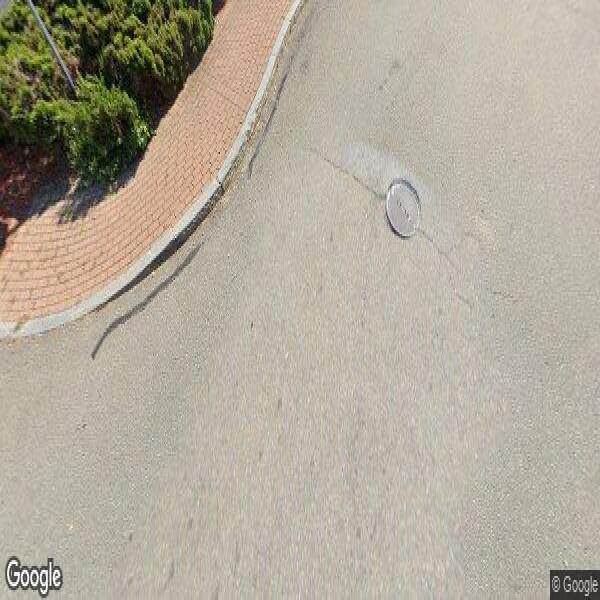manhole: (379, 174, 421, 242)
